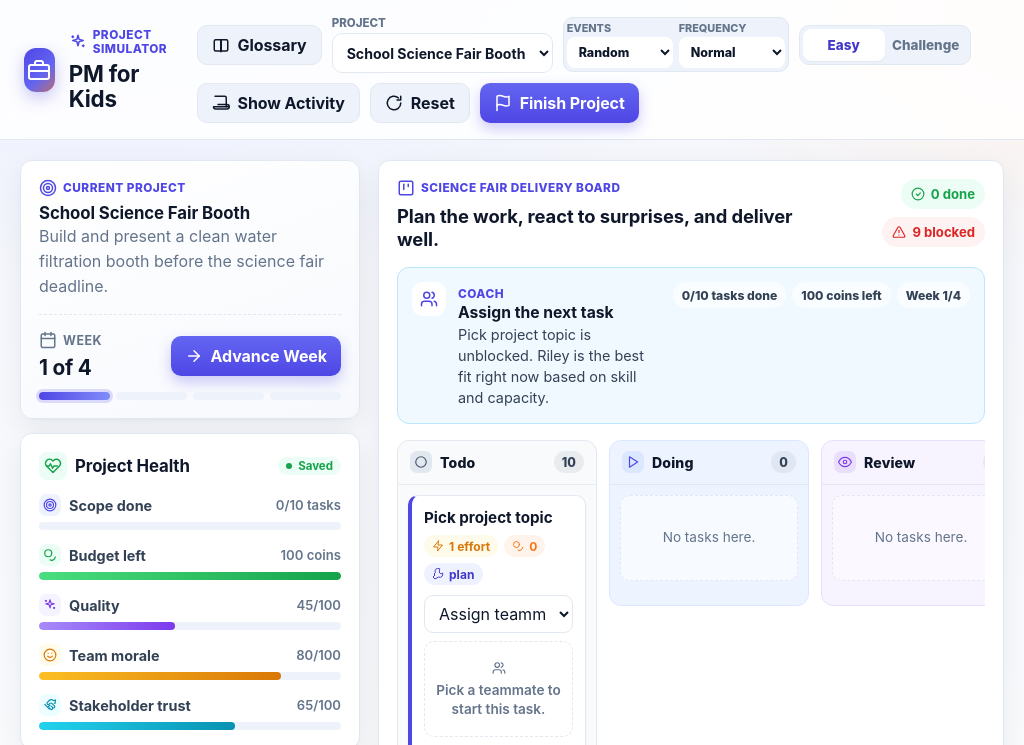
Test: App › includes the class garden scenario in the picker
Select "Class Garden Build" in the dropdown labelled "Project" at (442, 53), box [332, 33, 553, 73]
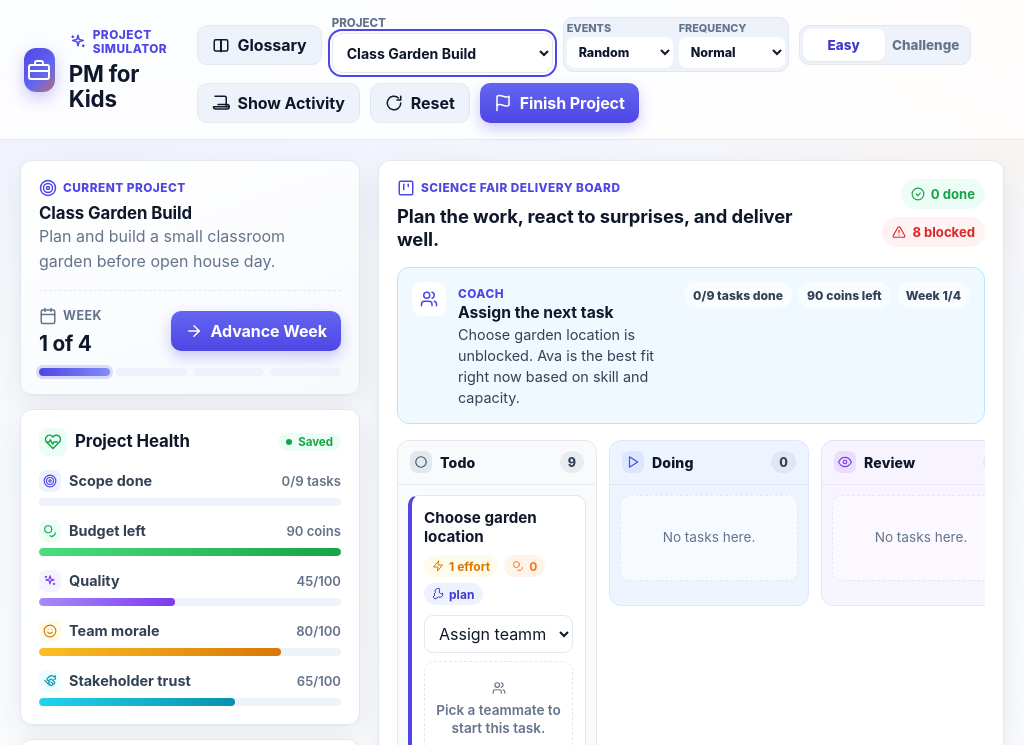
Now the heading "Class Garden Build" is shown, box [39, 203, 192, 223]
Now the heading "Choose garden location" is shown, box [424, 508, 537, 546]
